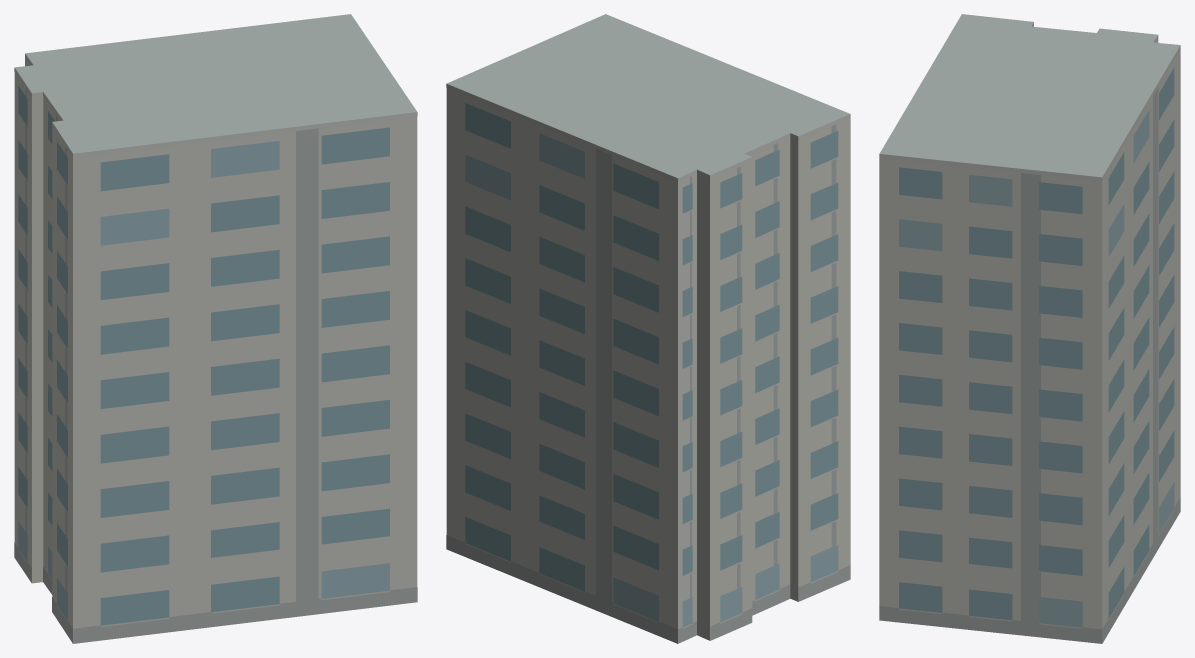
The model's file is survey-upis-32868519.glb.
The picture shows the model from 3 angles, left to right: view 1: azimuth 30°, elevation 25°; view 2: azimuth 150°, elevation 25°; view 3: azimuth 270°, elevation 25°; orthographic projection. The views are drawn at different scales.
Parts seen in each view (by area): view 1: survey-upis-32868519.tmp; view 2: survey-upis-32868519.tmp; view 3: survey-upis-32868519.tmp.
Part boxes in pixels (left/top/right/bottom): survey-upis-32868519.tmp: left=14, top=14, right=417, bottom=643; survey-upis-32868519.tmp: left=446, top=14, right=850, bottom=643; survey-upis-32868519.tmp: left=879, top=14, right=1180, bottom=643.
Size of the model in its own units: 20.62 by 27.45 by 16.07.
